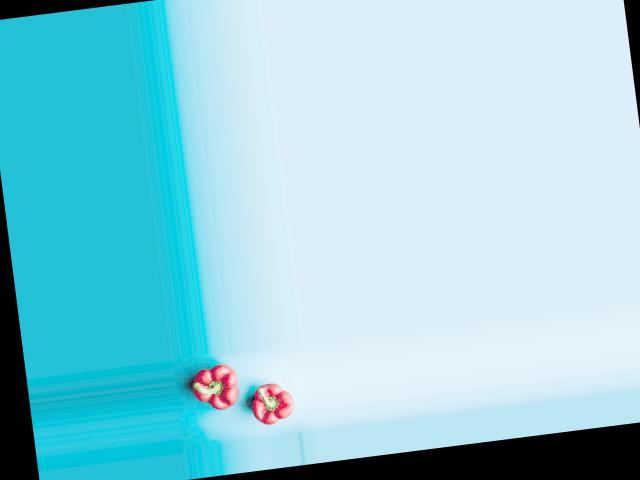bell_pepper: (185, 362, 251, 419)
